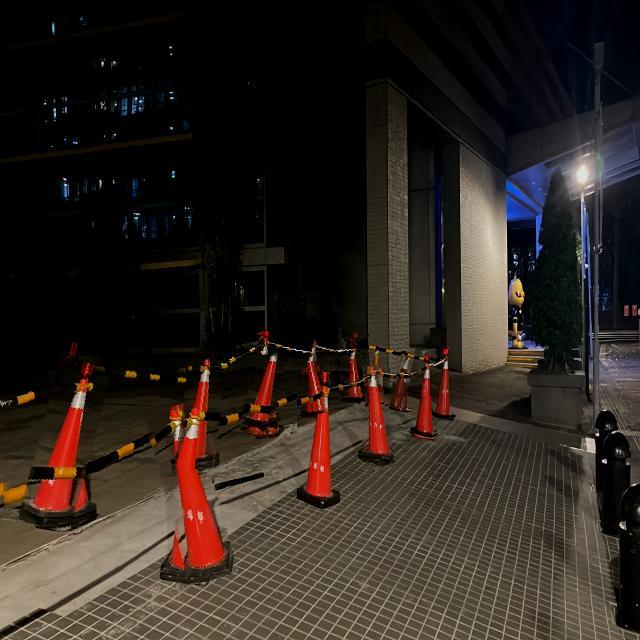traffic cone: (159, 401, 234, 584), (19, 362, 98, 531), (296, 373, 341, 509), (358, 366, 395, 465), (244, 351, 282, 439), (409, 359, 439, 441), (432, 356, 456, 420), (301, 360, 327, 417), (341, 349, 364, 402), (388, 369, 412, 412)
